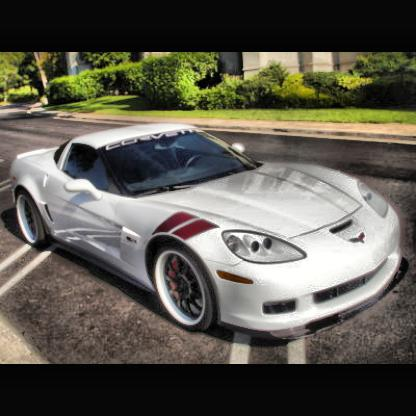Chevrolet Corvette Ron Fellows Edition Z06 2007: (14, 126, 405, 337)
